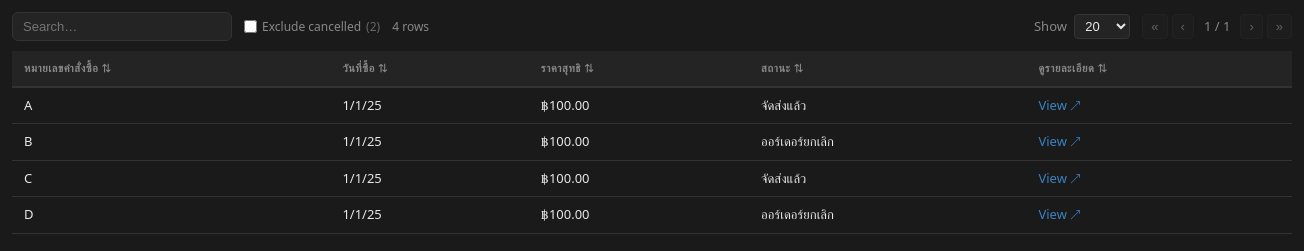
exclude-cancelled checkbox › drops cancelled rows from the orders table when checked
Click the checkbox at (250, 26), box [244,20,257,33]
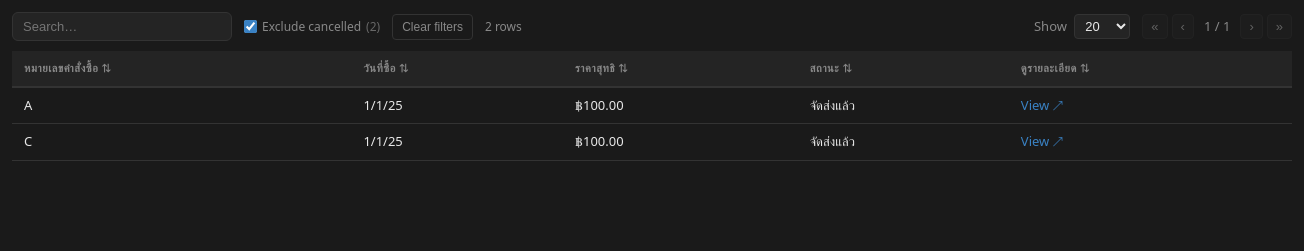
Check: the text "A" is shown, box [24,96,32,114]
Check: the text "B" is gone
